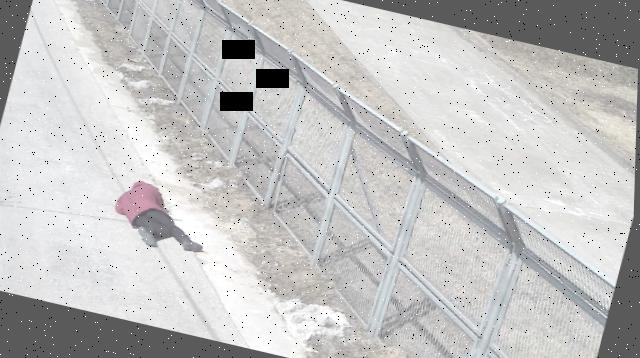fall: (106, 177, 218, 260)
